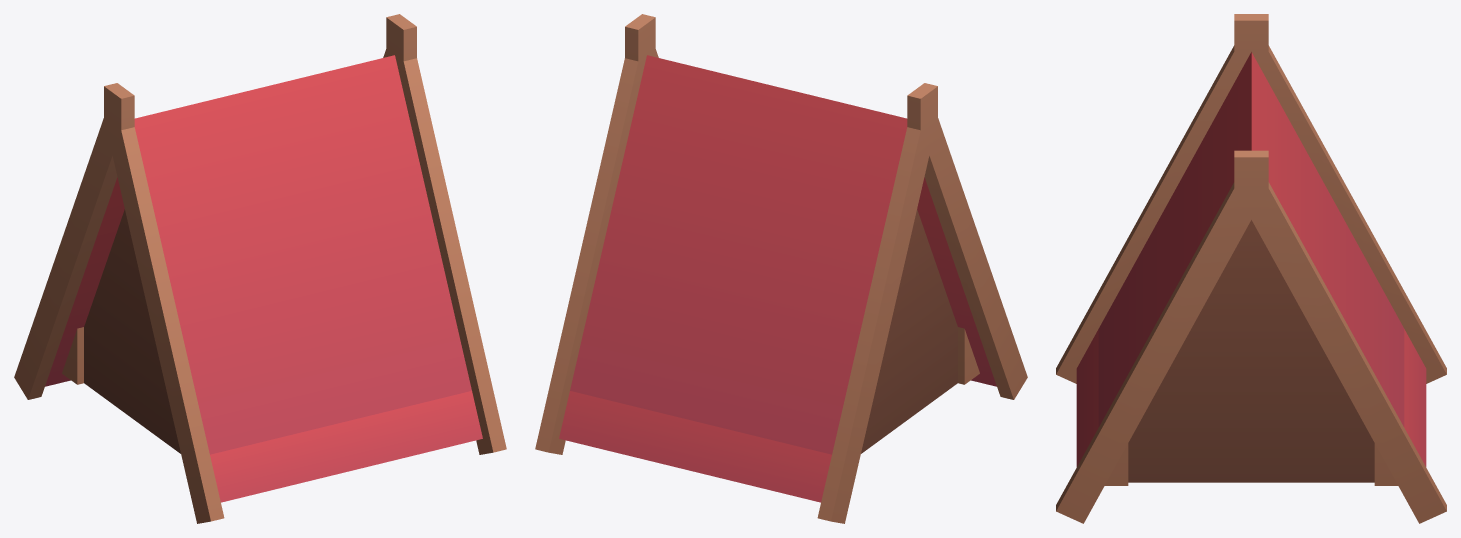
Rendered from roof-high-gable-detail.glb.
The picture shows the model from 3 angles, left to right: view 1: azimuth 30°, elevation 25°; view 2: azimuth 150°, elevation 25°; view 3: azimuth 270°, elevation 25°; orthographic projection.
Parts seen in each view (by area): view 1: roof-high-gable-detail; view 2: roof-high-gable-detail; view 3: roof-high-gable-detail.
Boxes of the visible parts, x1,y1,x2,y2 form: roof-high-gable-detail: (14, 14, 506, 523); roof-high-gable-detail: (535, 14, 1027, 523); roof-high-gable-detail: (1056, 14, 1446, 523).
Bounding box in the file's own units: 1.1 × 1.31 × 1.27.
1 material, 1 textured.
